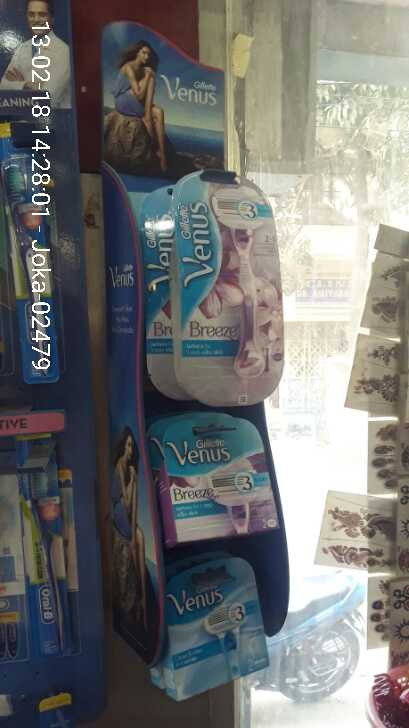beauty: (163, 164, 294, 413), (144, 410, 280, 540), (154, 555, 275, 700)
pharmacy: (18, 443, 84, 659)
